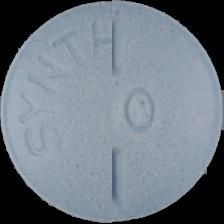43063-177: (0, 0, 224, 224)
